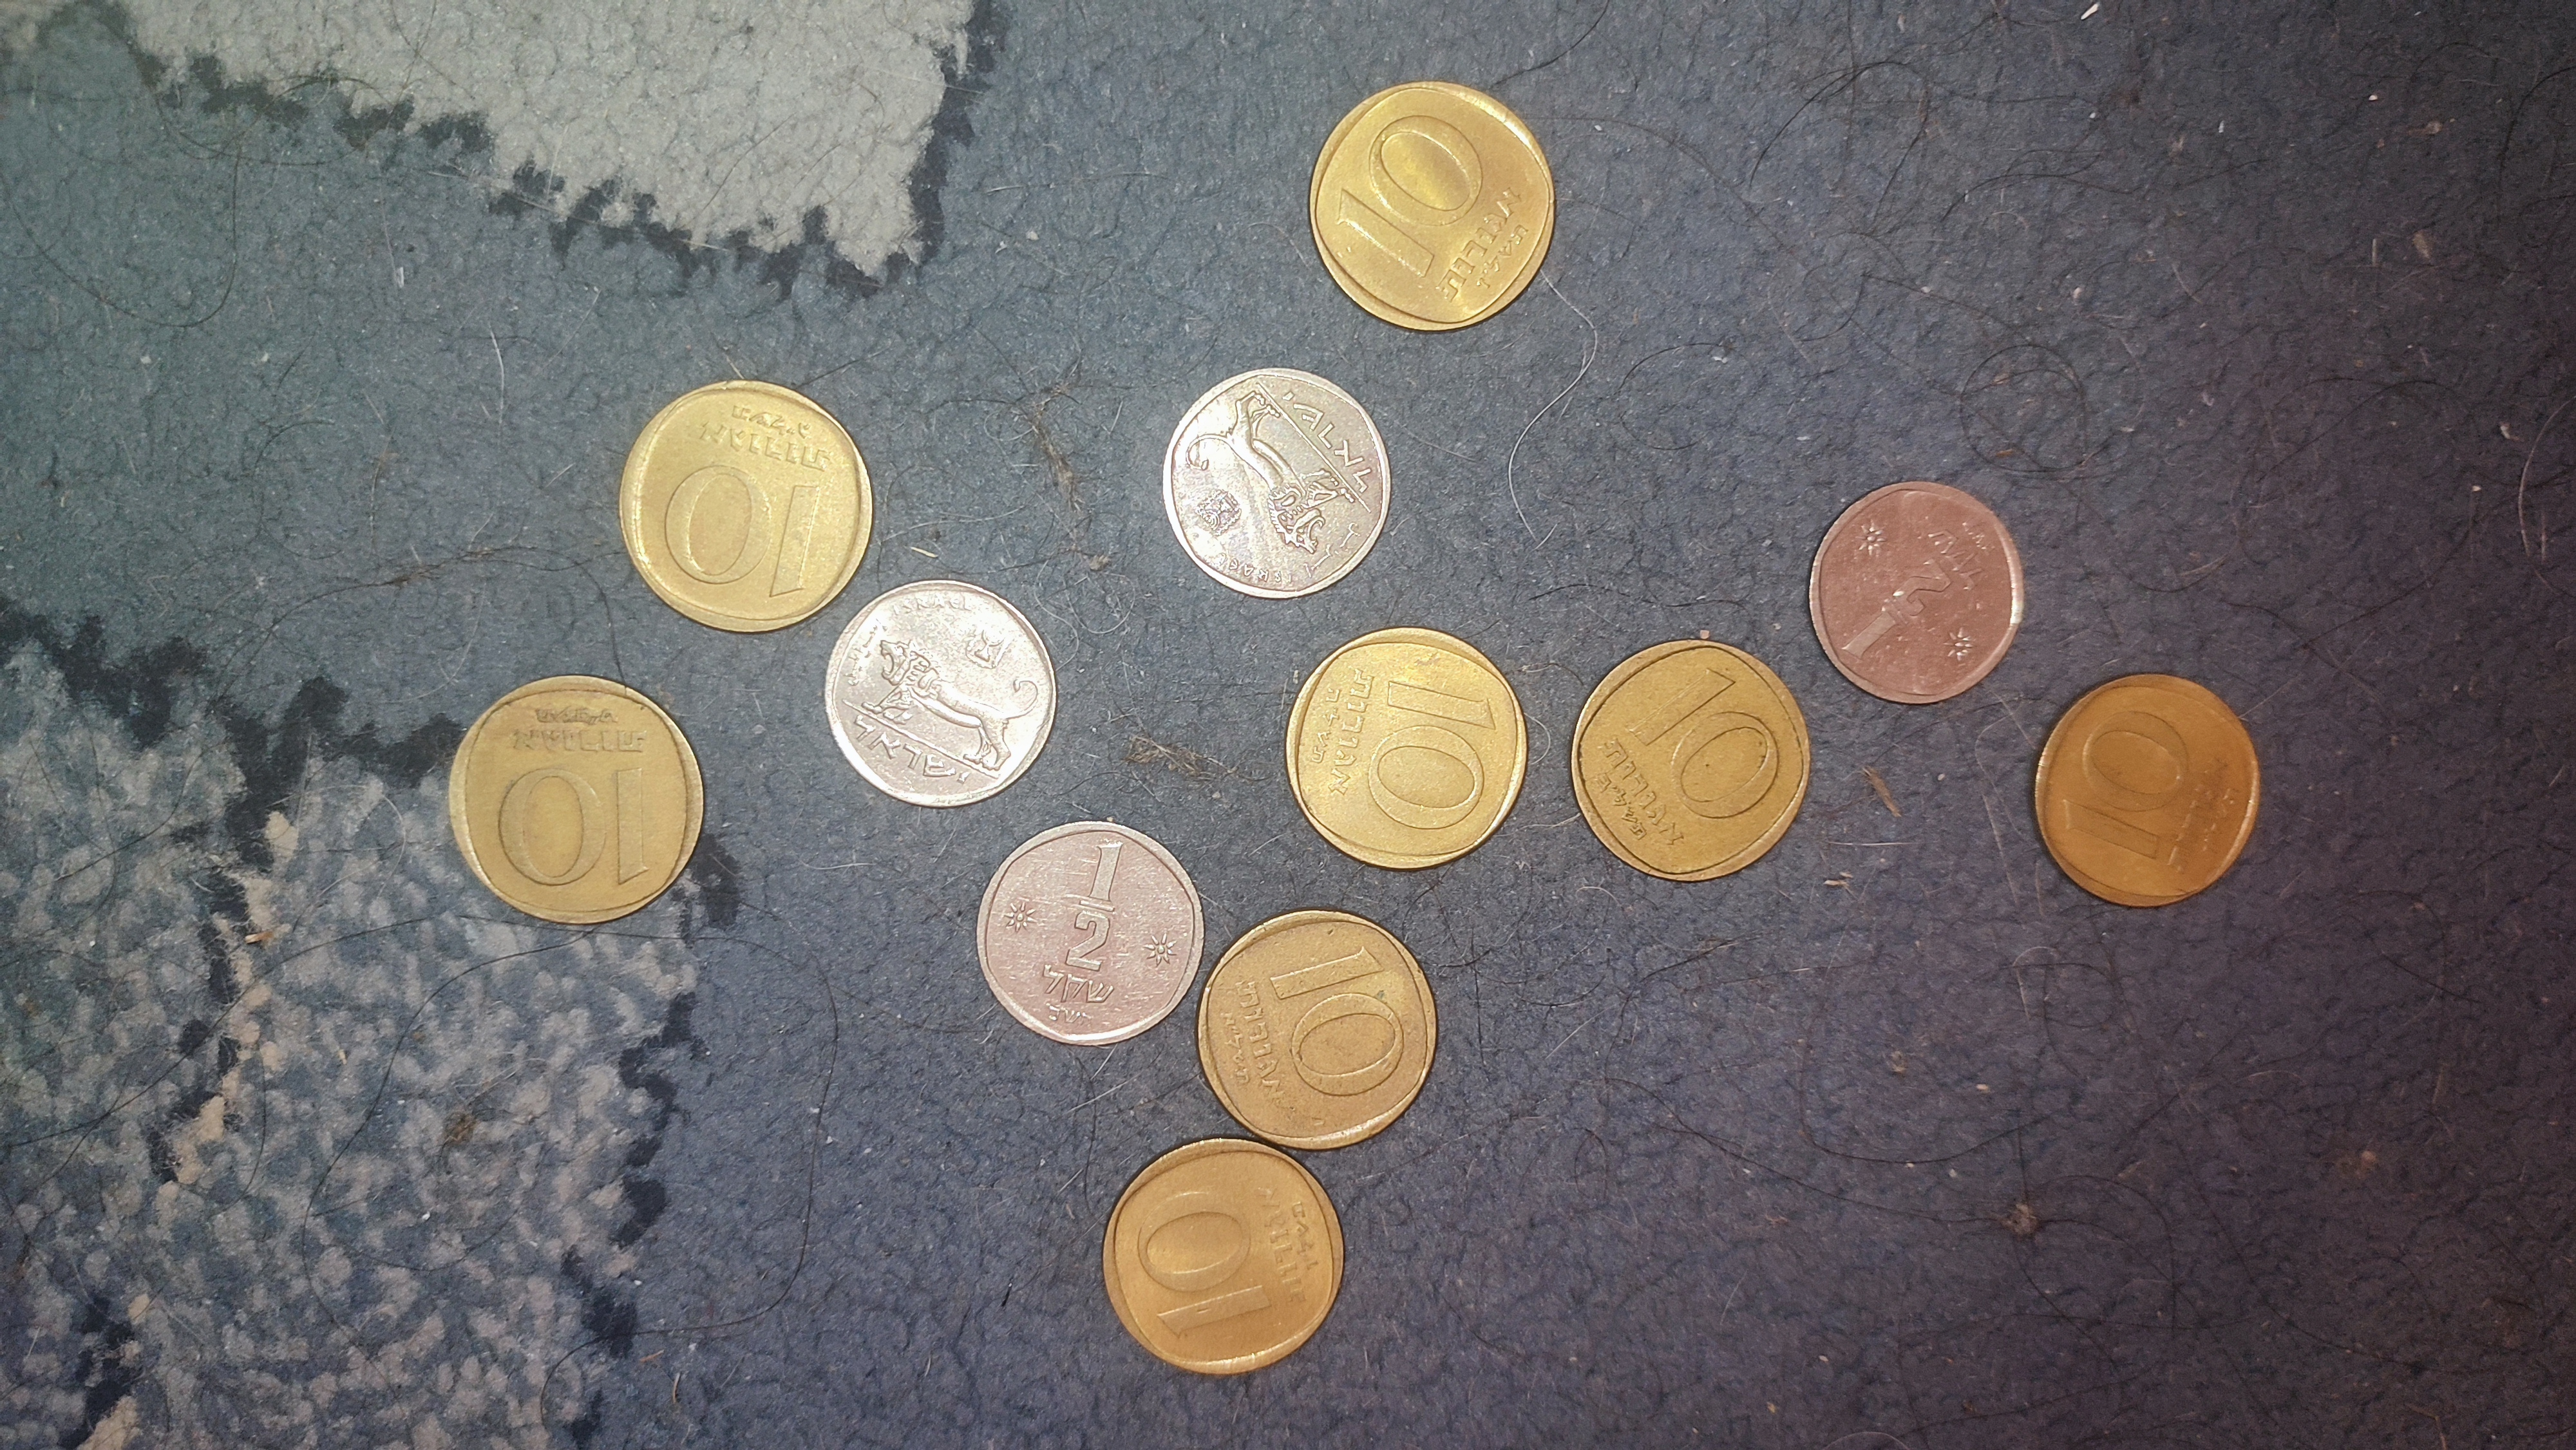1/2 old sheqel: (1157, 362, 1396, 603), (817, 576, 1060, 812), (970, 819, 1210, 1050), (1801, 476, 2031, 711)
10 old agora brown: (435, 668, 713, 932), (610, 375, 881, 640), (1302, 76, 1566, 343), (1187, 898, 1449, 1158), (1093, 1130, 1352, 1383), (1281, 622, 1532, 881), (1566, 631, 1812, 889), (2024, 667, 2268, 920)
